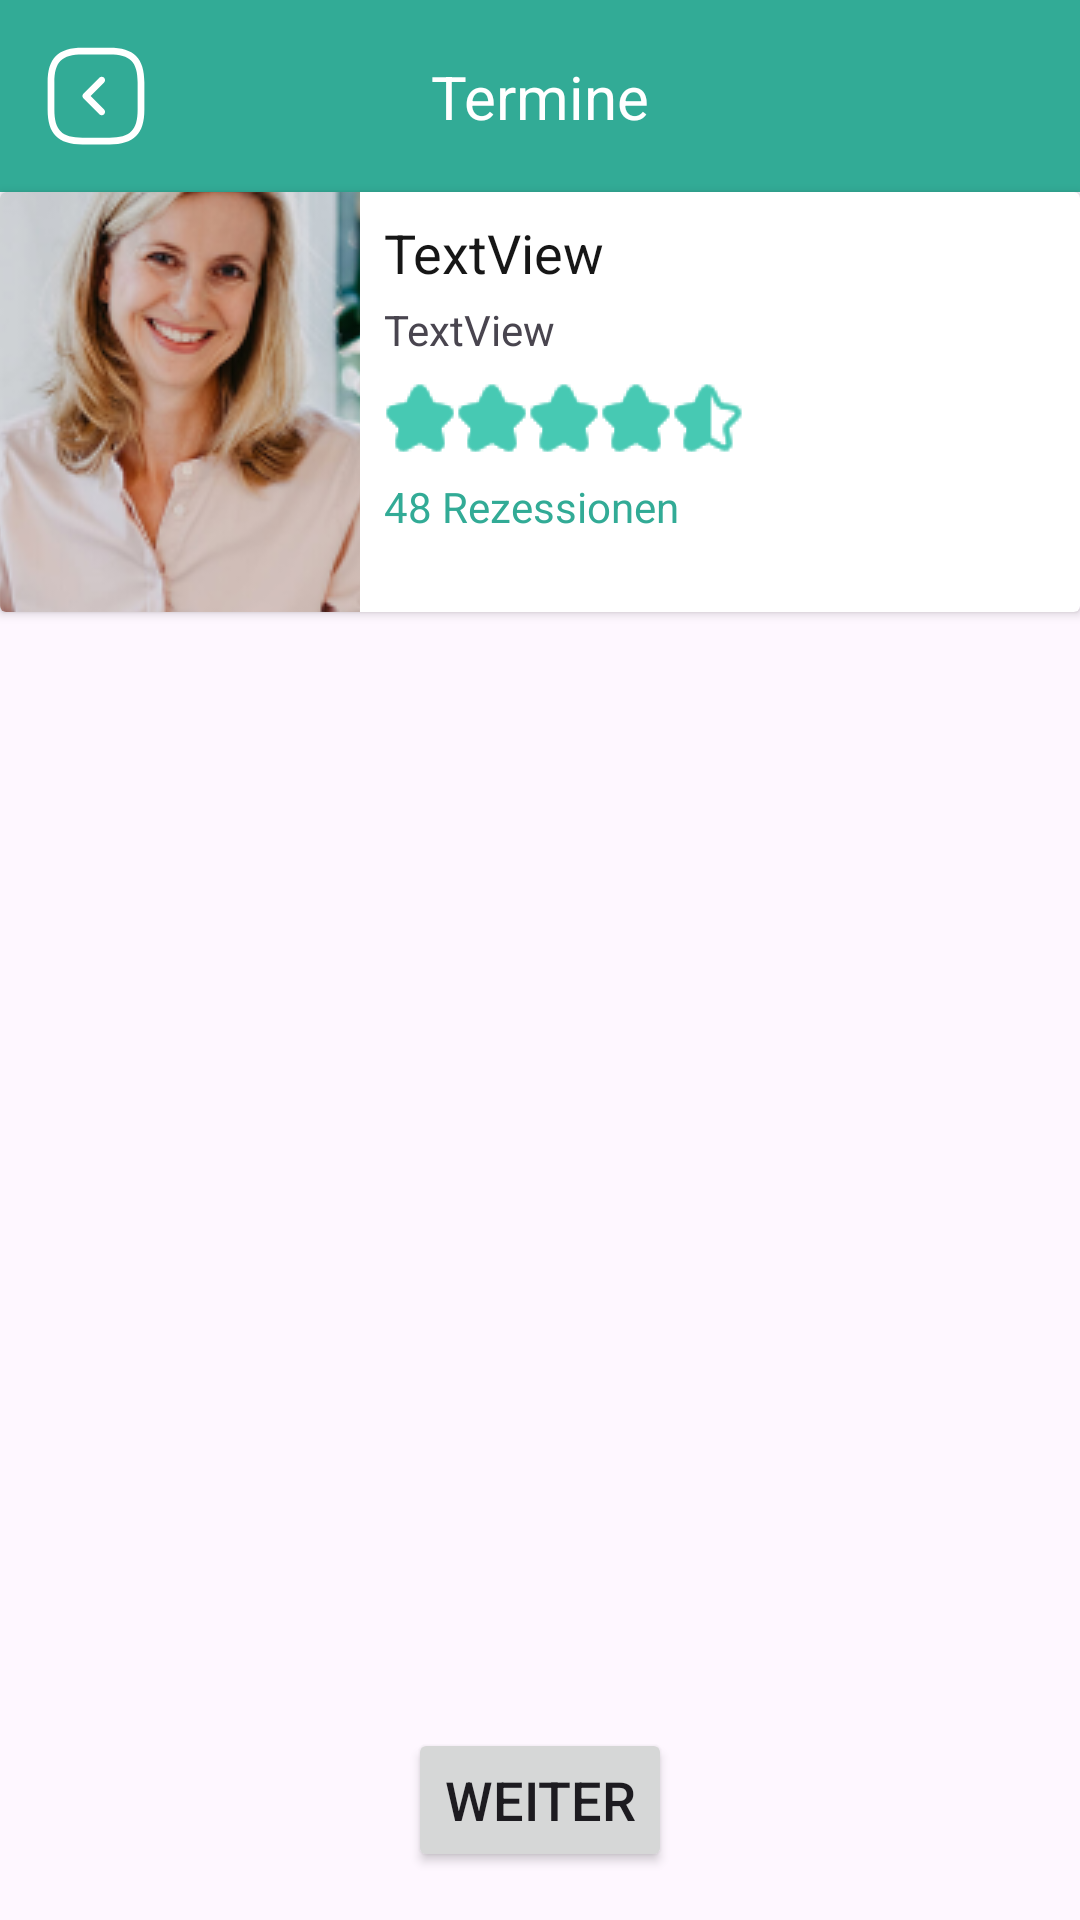

Icons on this 1080px×1920px Android screen, each with its box as (x1, y1, x2, y2):
arrow square left: (47, 47, 145, 145)
